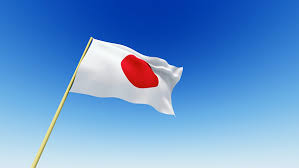Japanese Flag: (65, 38, 195, 119)
